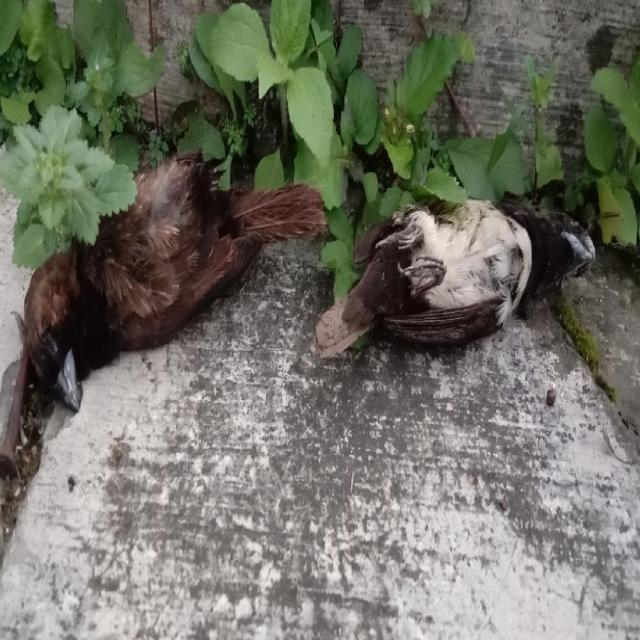Bangkai Burung: (16, 142, 317, 408), (308, 153, 616, 410)
